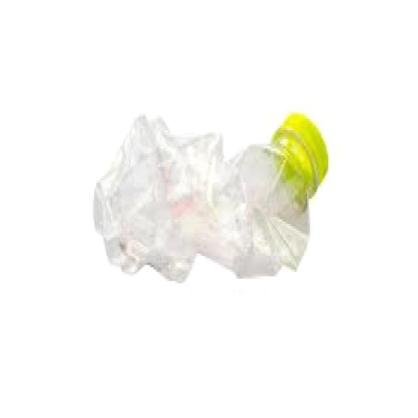bottle: (86, 100, 331, 289)
cap: (274, 108, 340, 194)
